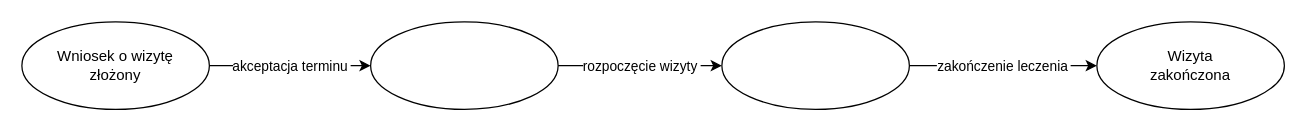
The diagram is 1306 pixels wide and 131 high, and some of its shapes have lost their labels. The shapes that lost their labels are listed below. From the top down, each one's box as (x1, y1, x2, y2) in pixels, then its label:
(369, 21, 558, 109): Wizyta potwierdzona
(721, 21, 909, 109): Pacjent na wizycie
